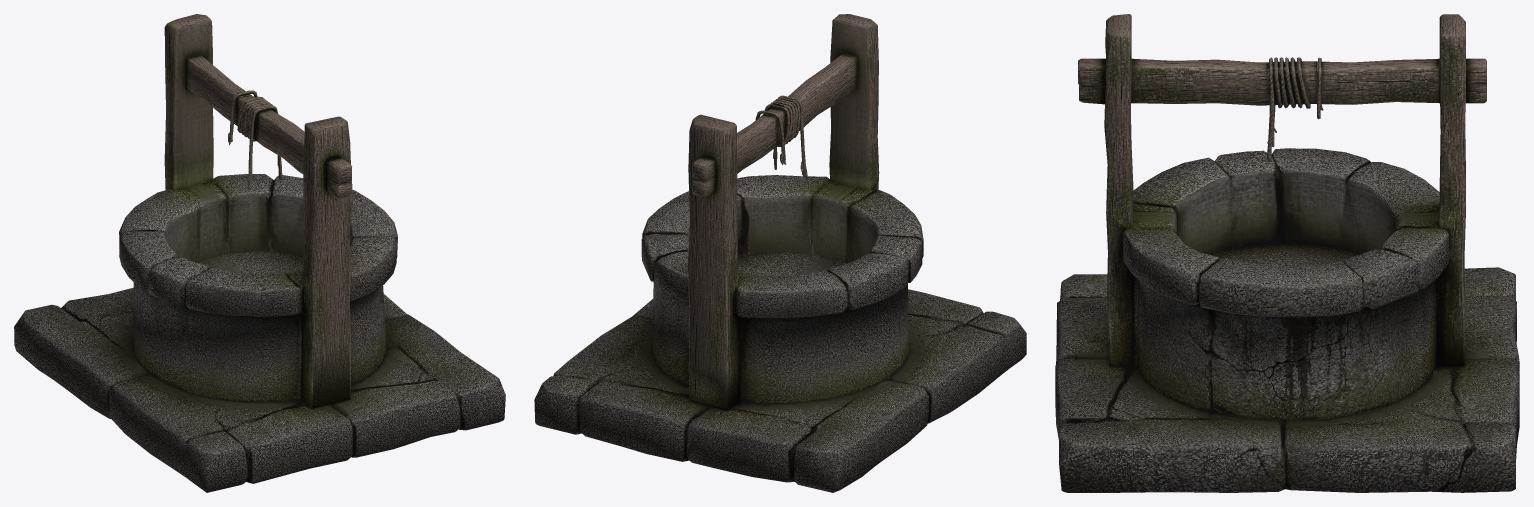
The model's file is tripo_convert_64e2609a-ddc5-40a5-8cf2-04b6a16fc22c.fbx.
The picture shows the model from 3 angles, left to right: view 1: azimuth 30°, elevation 25°; view 2: azimuth 150°, elevation 25°; view 3: azimuth 270°, elevation 25°; orthographic projection. The views are drawn at different scales.
Visible parts, largest first — view 1: tripo_node_64e2609a; view 2: tripo_node_64e2609a; view 3: tripo_node_64e2609a.
Part boxes in pixels (x1,y1,x2,y2): tripo_node_64e2609a: [14, 14, 505, 492]; tripo_node_64e2609a: [534, 14, 1026, 492]; tripo_node_64e2609a: [1055, 14, 1519, 492].
Bounding box in the file's own units: 0.9043 × 0.9043 × 0.998.
1 material, 1 textured.
